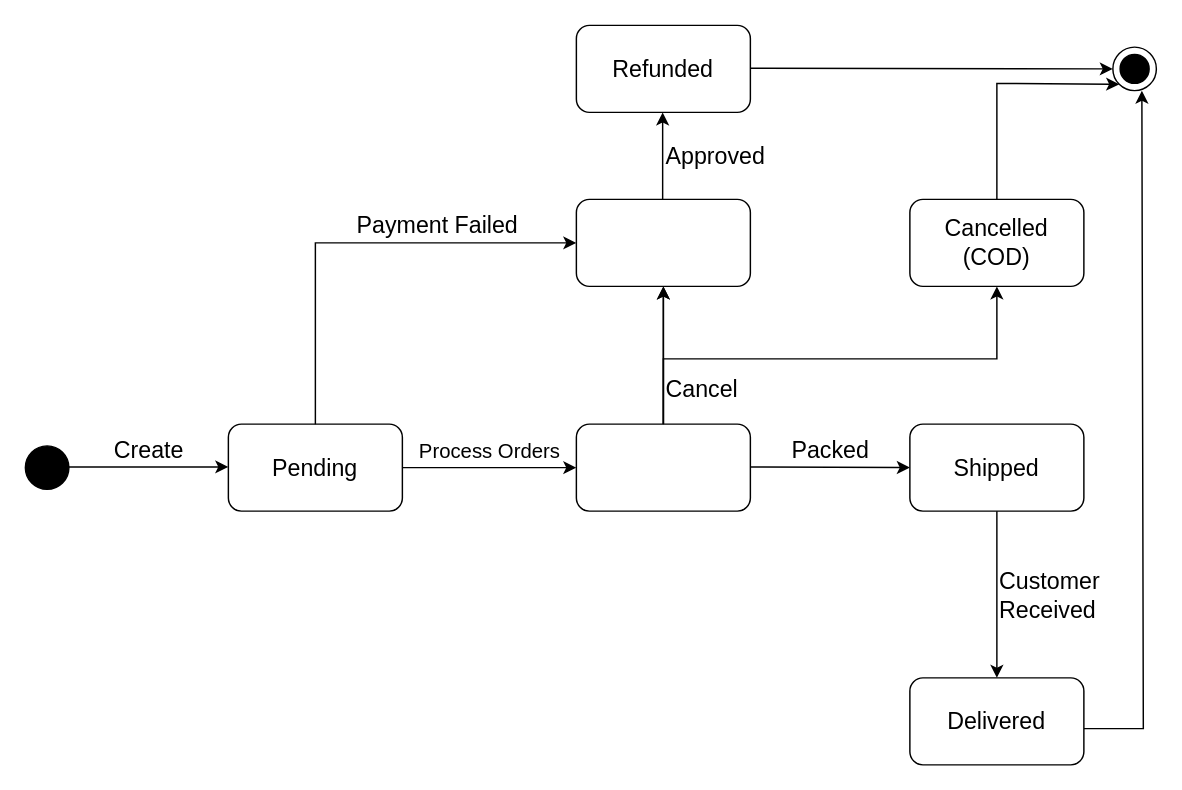
This 1182x790 diagram has some shape labels left out. The centre of each missing label's shape, as x and y in pixels:
Cancelled (Payment): the point at 662,242
Processing: the point at 662,467
